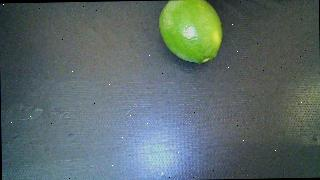EXPORTACION: (158, 0, 222, 63)
